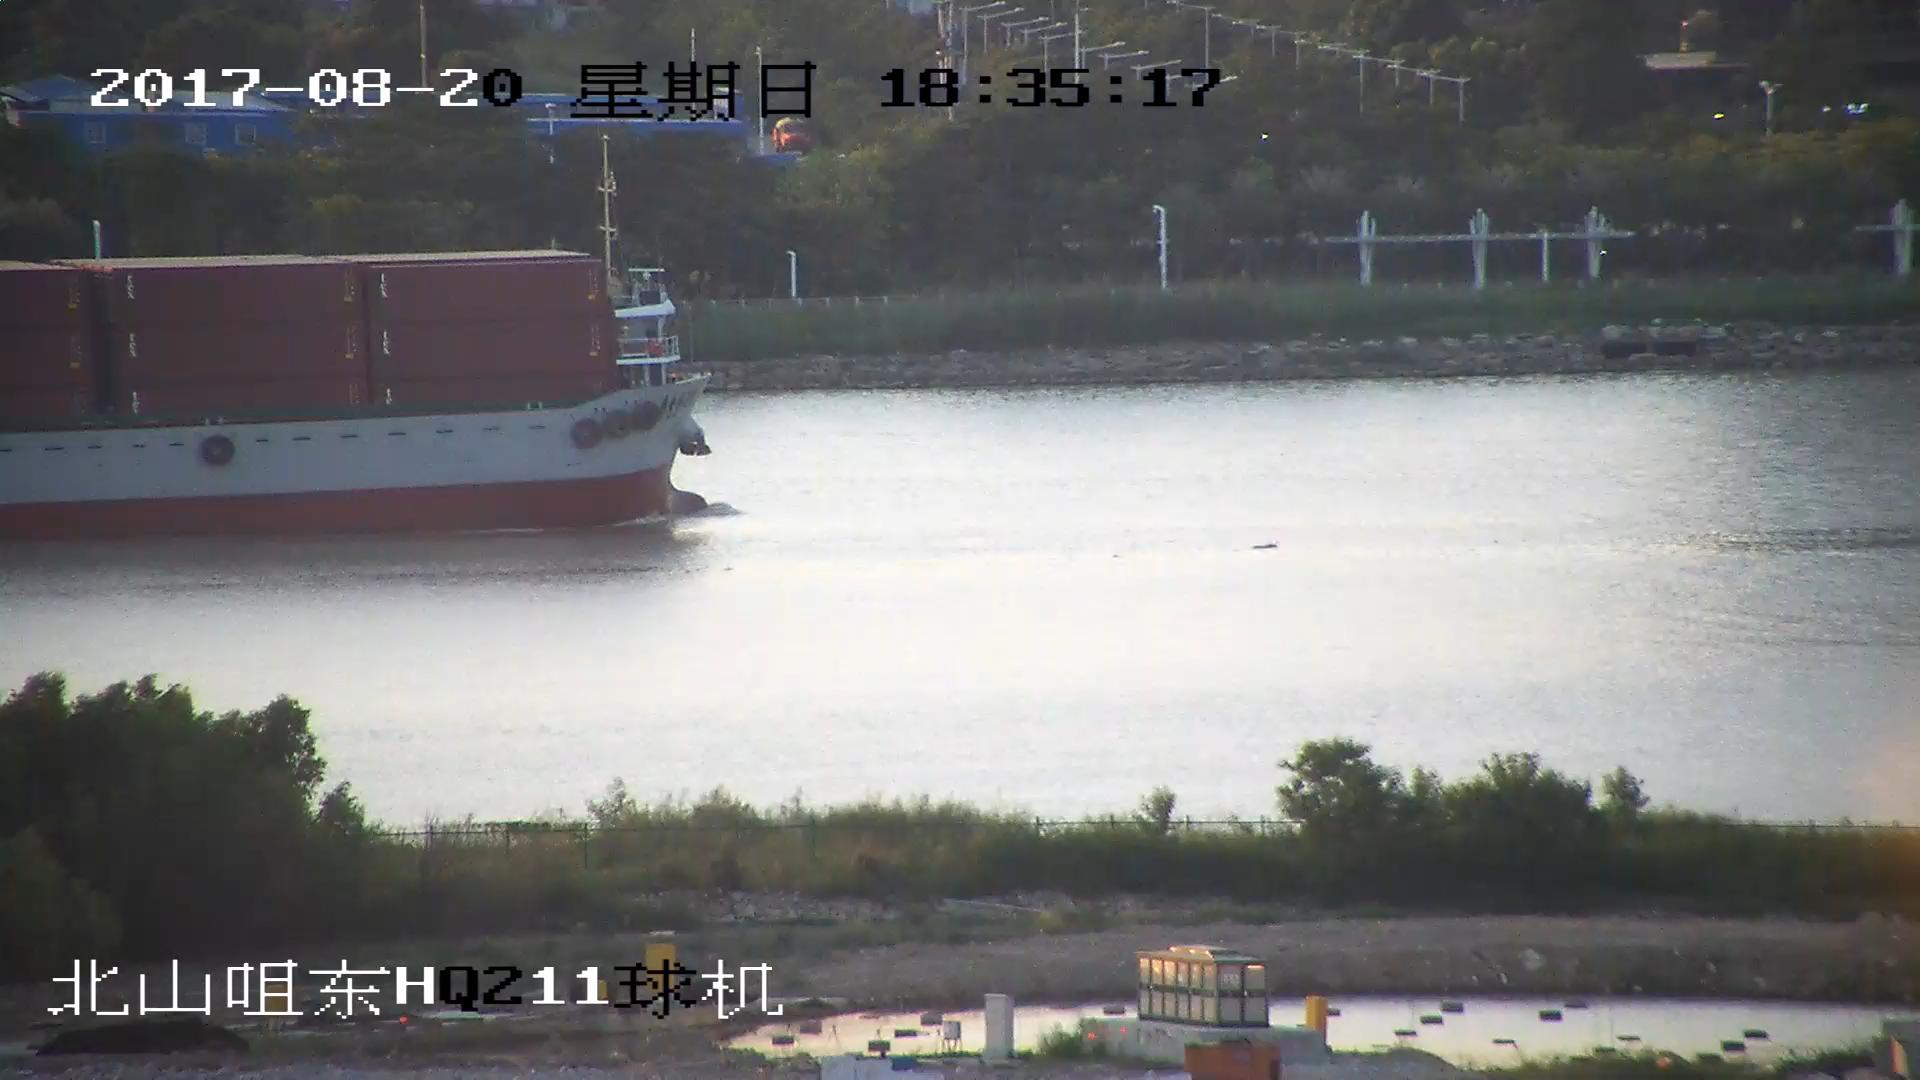Ship: (3, 137, 721, 531)
